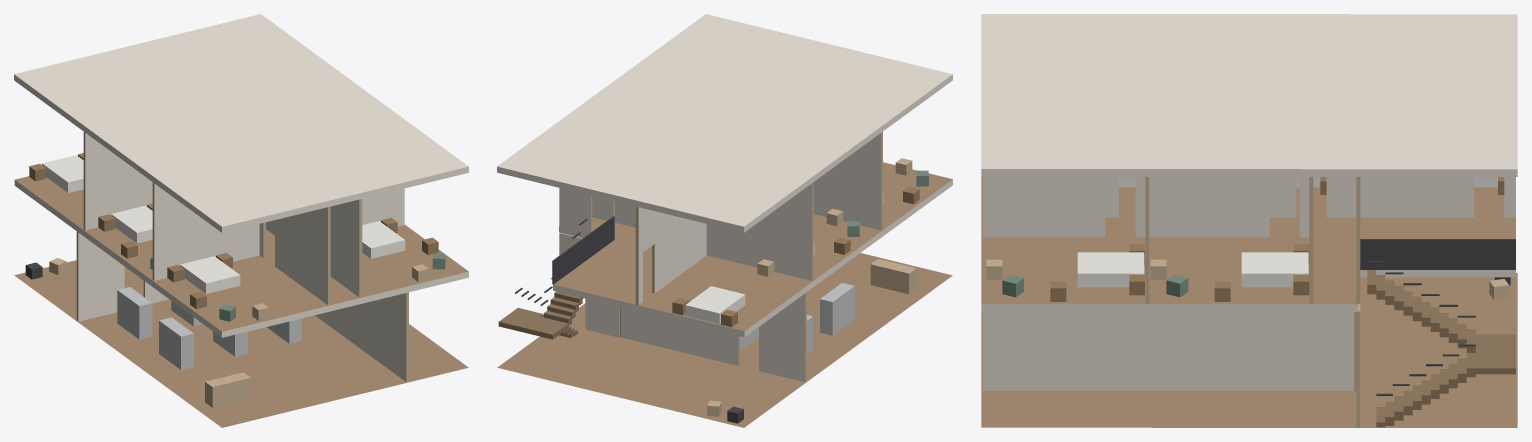
The model's file is interior.glb.
3 views of the same model, side by side, from view 1: azimuth 30°, elevation 25°; view 2: azimuth 150°, elevation 25°; view 3: azimuth 270°, elevation 25° (orthographic). The views are drawn at different scales.
Parts seen in each view (by area): view 1: slabs, partitions, coarse-s1, coarse-s0; view 2: slabs, partitions, stair, coarse-s0, coarse-s1; view 3: slabs, partitions, stair, coarse-s1.
Part boxes in pixels (x1,y1,x2,y2): slabs: [14, 14, 468, 427]; partitions: [76, 132, 408, 382]; coarse-s1: [29, 153, 445, 321]; coarse-s0: [25, 258, 301, 407]; slabs: [497, 14, 952, 427]; partitions: [559, 132, 882, 382]; stair: [498, 216, 614, 339]; coarse-s0: [707, 259, 916, 423]; coarse-s1: [672, 158, 928, 327]; slabs: [981, 14, 1517, 427]; partitions: [983, 177, 1515, 427]; stair: [1360, 239, 1515, 427]; coarse-s1: [986, 177, 1504, 301].
Size of the model in its own units: 10.98 by 8.55 by 16.02.
